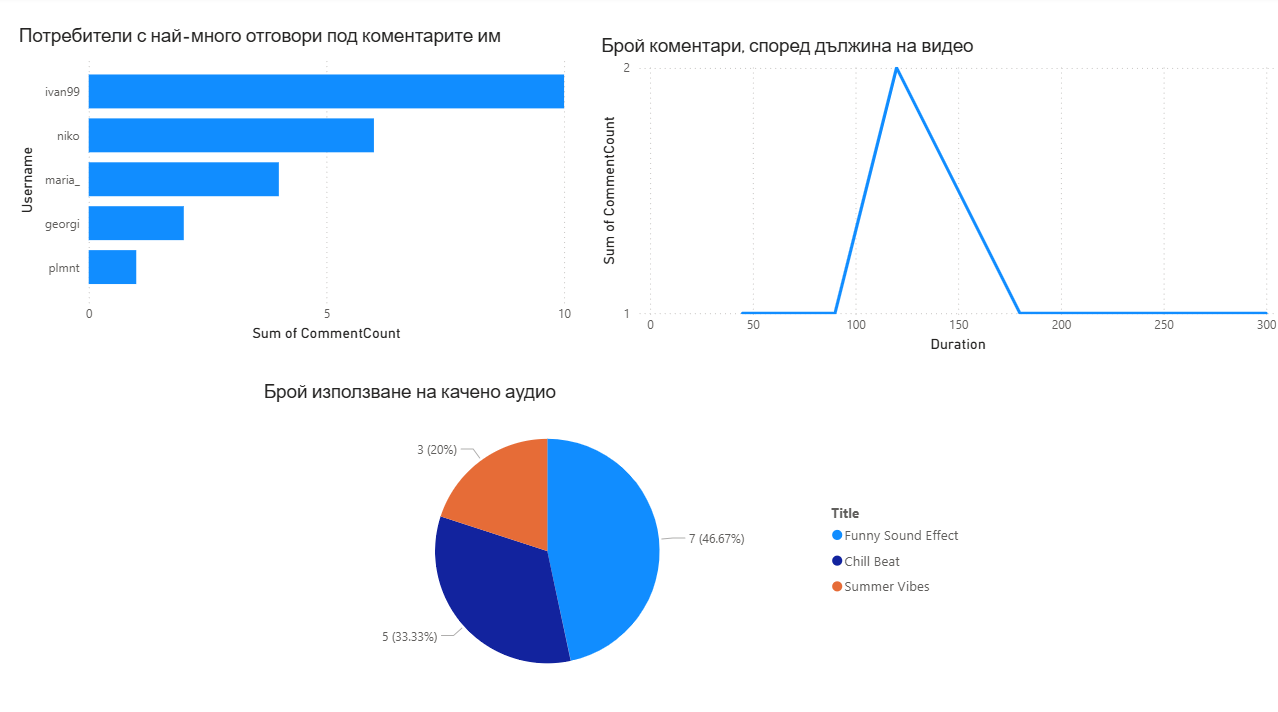

What the dashboard file says about the page in this screenshot:
{"tool":"powerbi","page":{"name":"Page 1","canvas":[1280,720],"ordinal":0},"visuals":[{"type":"clusteredBarChart","title":"Потребители с най-много отговори под коментарите им","fields":{"Category":["Users.Username"],"Y":["Comments.CommentCount"]},"box":[19.2,28.8,559.9,319.7],"z":0},{"type":"lineChart","title":"Брой коментари, според дължина на видео","fields":{"Category":["Videos.Duration"],"Y":["Videos.CommentCount"]},"box":[598.3,38.4,682,321.1],"z":1},{"type":"pieChart","title":"Брой използване на качено аудио","fields":{"Category":["Audio.Title","Audio.AudioID"],"Y":["Audio.UsageCount"]},"box":[262.1,382.8,710.8,319.7],"z":2}]}

Visuals, with their boxes in screenshot pixels (x1, y1, x2, y2), scaled from the page's 1280x720 canvas onto the 1278x712 screenshot:
"Потребители с най-много отговори под коментарите им" clusteredBarChart: 19,28,578,345
"Брой коментари, според дължина на видео" lineChart: 597,38,1277,356
"Брой използване на качено аудио" pieChart: 262,379,971,695
